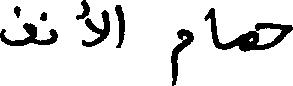X: (0, 1, 33, 50), (78, 0, 107, 51), (258, 18, 292, 54), (174, 24, 191, 85), (240, 19, 256, 56), (42, 7, 55, 49), (117, 0, 123, 52), (211, 3, 217, 52)
